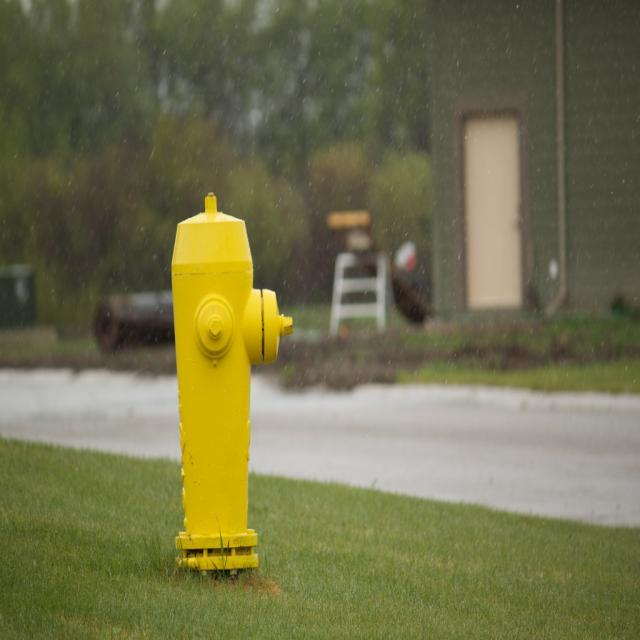fire_hydrant: (170, 189, 293, 576)
